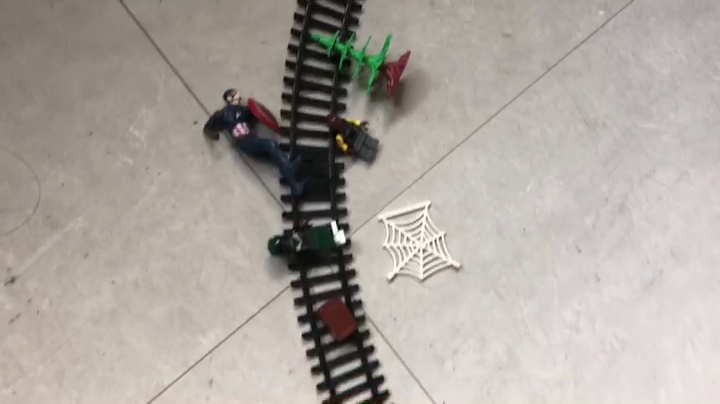box: (315, 295, 359, 345)
people: (201, 88, 315, 198), (268, 217, 349, 269), (326, 112, 380, 166)
tree: (309, 30, 414, 101)
web: (377, 201, 461, 285)
